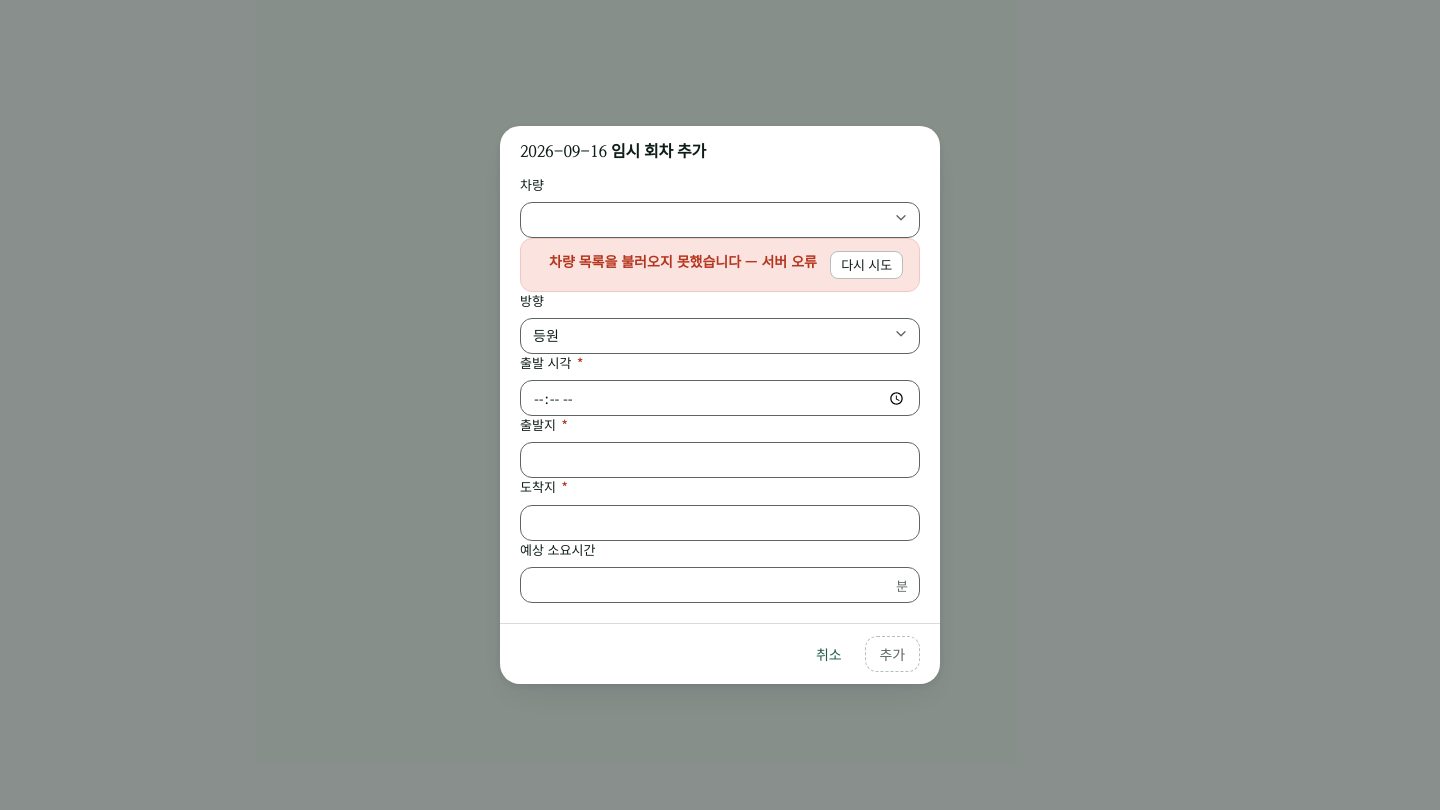
Test: RunAddForm — 차량 목록 조회 실패 › 조회가 실패하면 오류와 [다시 시도] 를 보이고, 다시 시도가 성공하면 차량을 고를 수 있다
Expected: the text "차량 목록을 불러오지 못했습니다 — 서버 오류" is shown, [549,251,818,272]
Click the button "다시 시도" at (867, 265), box [830,251,903,279]
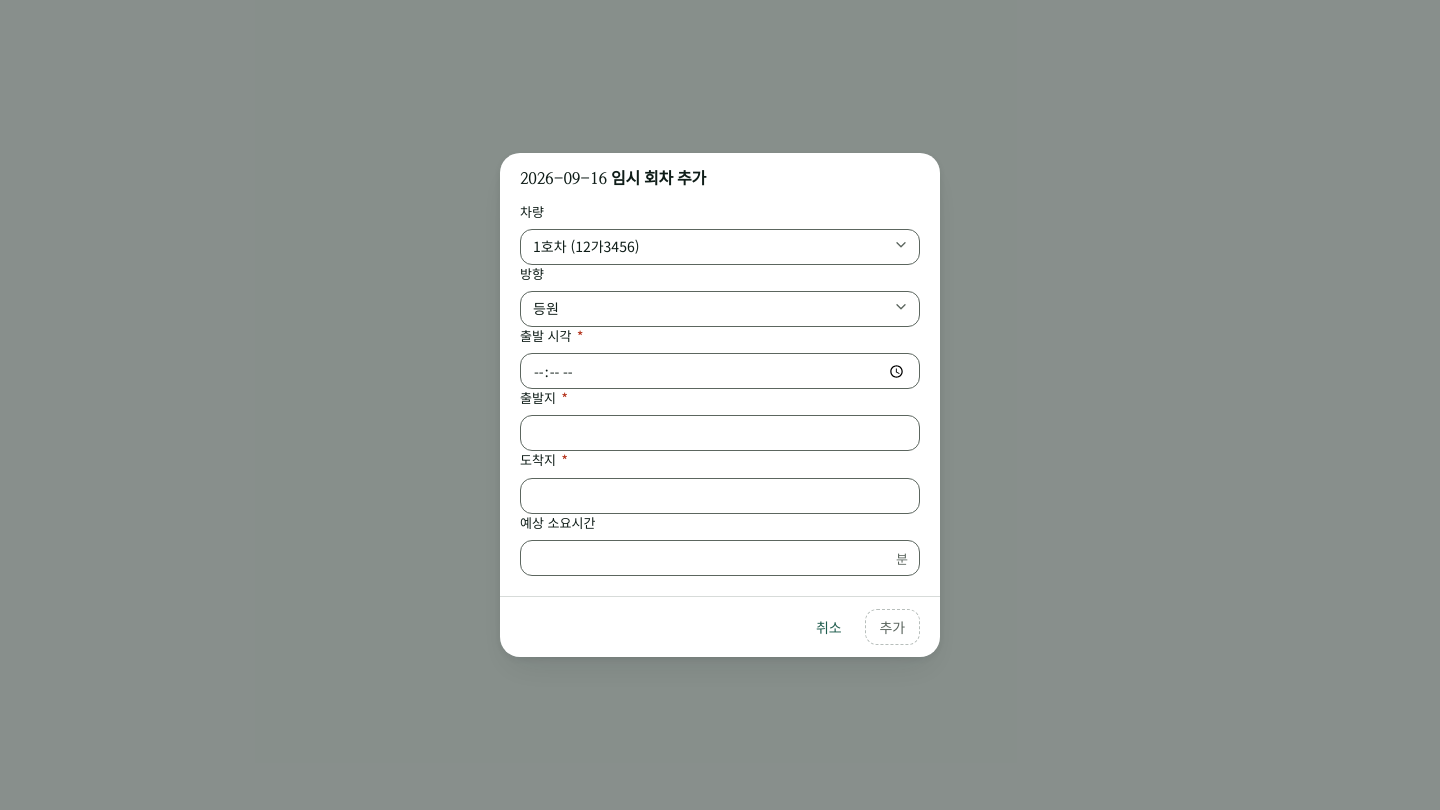
Expected: the text "차량 목록을 불러오지 못했습니다" is gone
